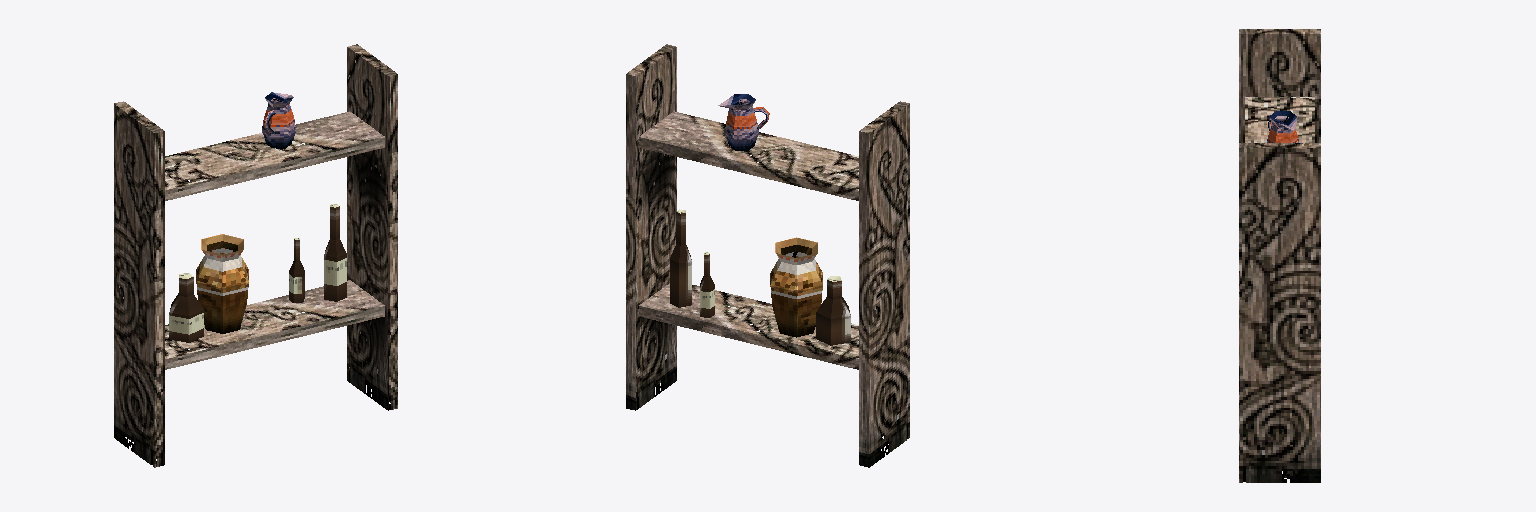
3 views of the same model, side by side, from view 1: azimuth 30°, elevation 25°; view 2: azimuth 150°, elevation 25°; view 3: azimuth 270°, elevation 25° (orthographic).
Visible parts, largest first — view 1: Mesh_2, Mesh_1, Mesh_3, Mesh_0; view 2: Mesh_2, Mesh_1, Mesh_3, Mesh_0; view 3: Mesh_2, Mesh_0.
Boxes of the visible parts, x1,y1,x2,y2 form: Mesh_2: [114, 44, 397, 467]; Mesh_1: [196, 234, 248, 333]; Mesh_3: [169, 204, 346, 342]; Mesh_0: [262, 92, 295, 148]; Mesh_2: [626, 44, 909, 467]; Mesh_1: [770, 237, 822, 337]; Mesh_3: [670, 209, 850, 345]; Mesh_0: [718, 94, 769, 150]; Mesh_2: [1239, 29, 1320, 482]; Mesh_0: [1267, 111, 1298, 142].
Bounding box in the file's own units: 1.6 × 2.1 × 0.4643.
Materials: 4 (4 with a texture image).